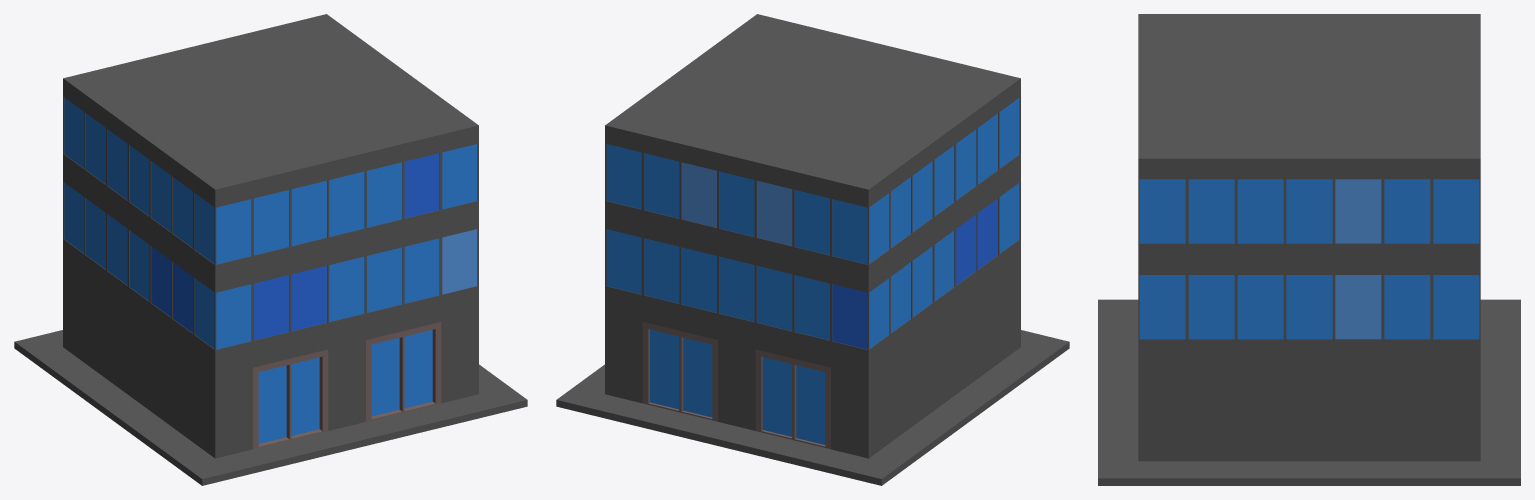
The model's file is building_1x1_8_g.glb.
3 views of the same model, side by side, from view 1: azimuth 30°, elevation 25°; view 2: azimuth 150°, elevation 25°; view 3: azimuth 270°, elevation 25° (orthographic). The views are drawn at different scales.
Visible parts, largest first — view 1: FirstFloor; view 2: FirstFloor; view 3: FirstFloor.
Part boxes in pixels (x1=…): FirstFloor: x1=14, y1=14, x2=527, y2=485; FirstFloor: x1=556, y1=14, x2=1069, y2=485; FirstFloor: x1=1098, y1=14, x2=1520, y2=485.
Size of the model in its own units: 2 by 1.62 by 2.
